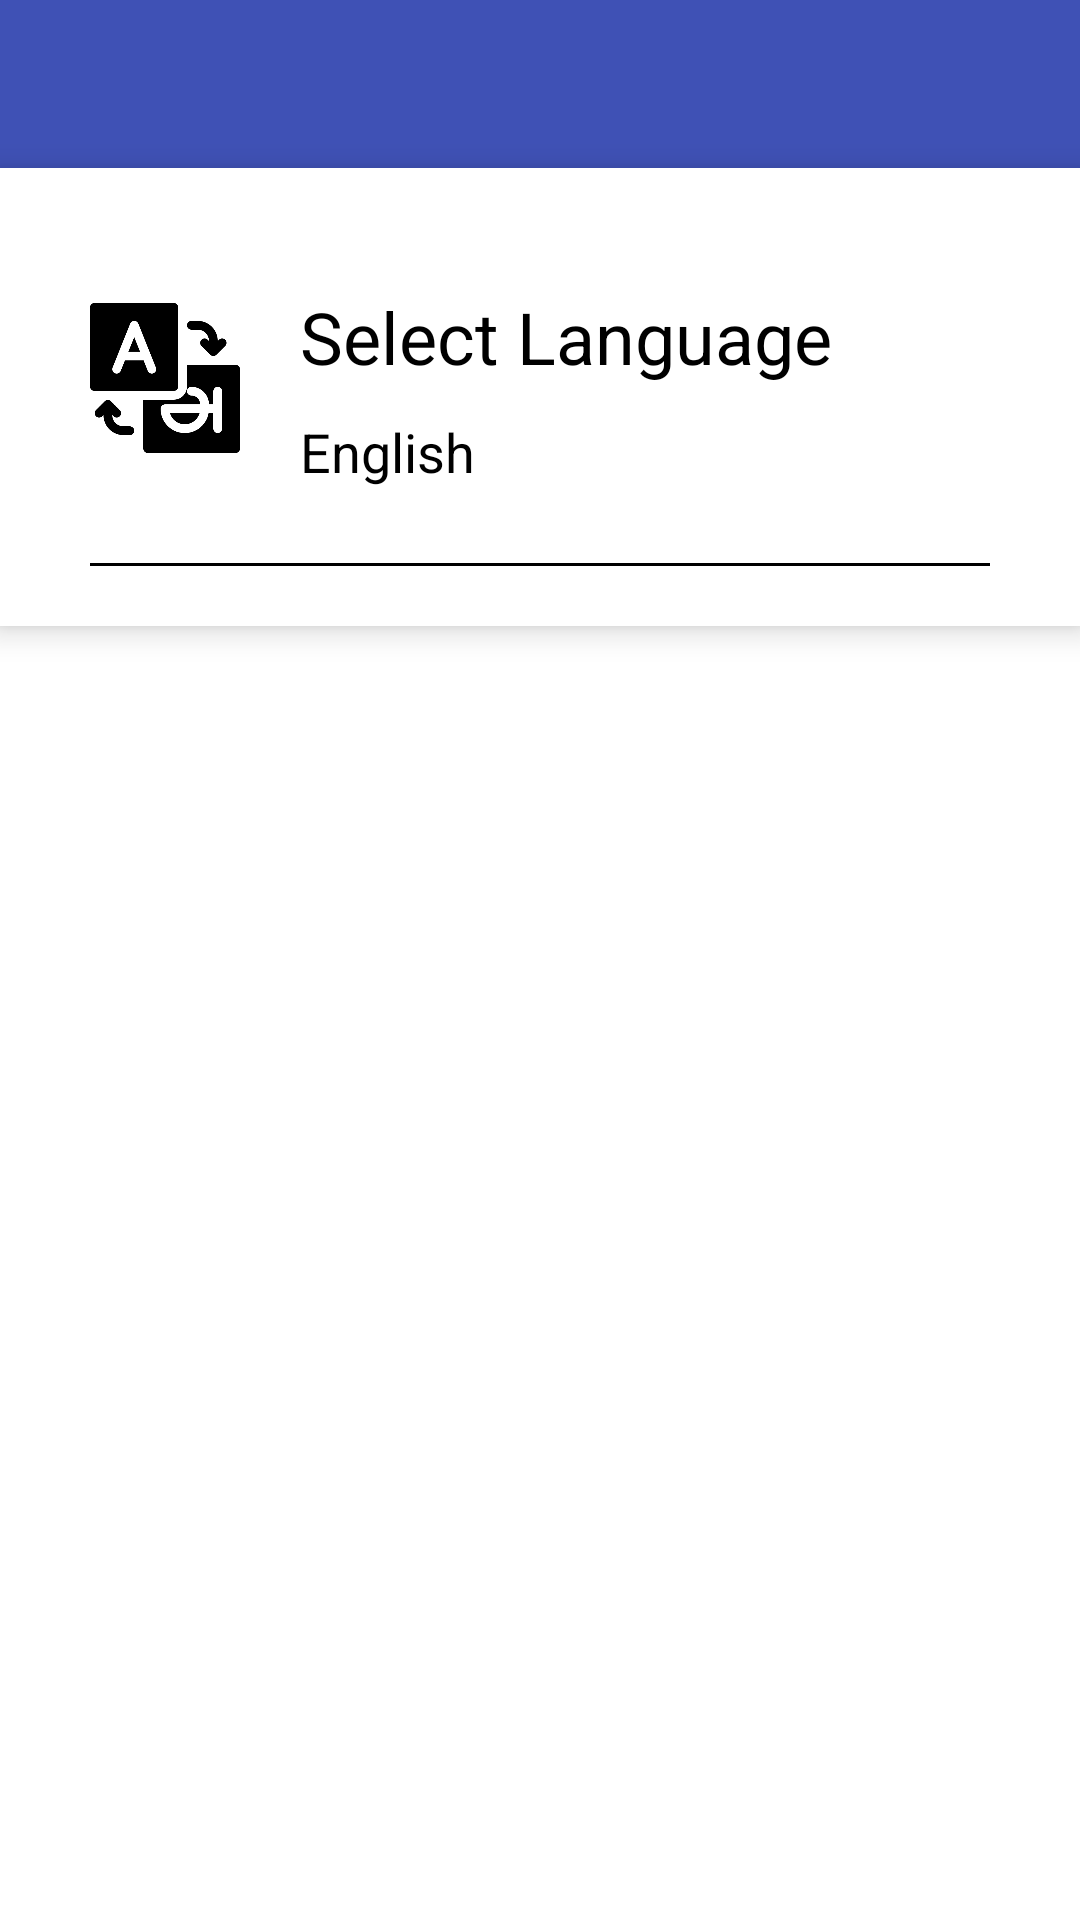

Point at icon controls on the screen. Image size 1080*1920, points as (x,y).
translation: (165,378)
